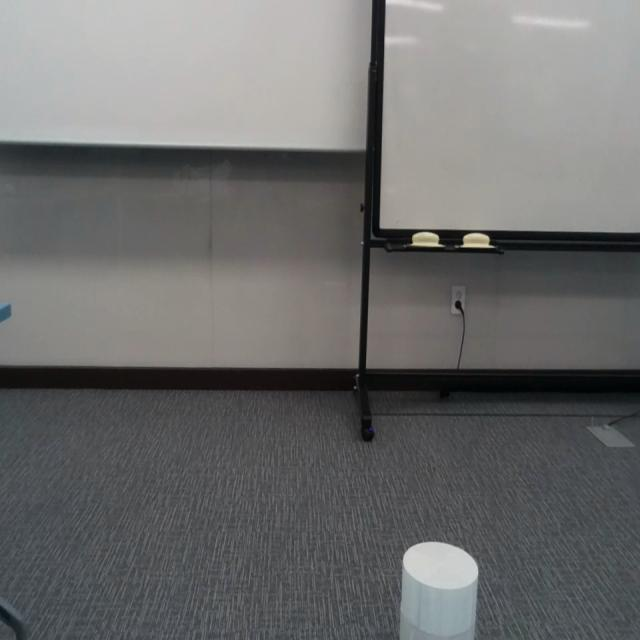cylinder: (400, 540, 479, 640)
